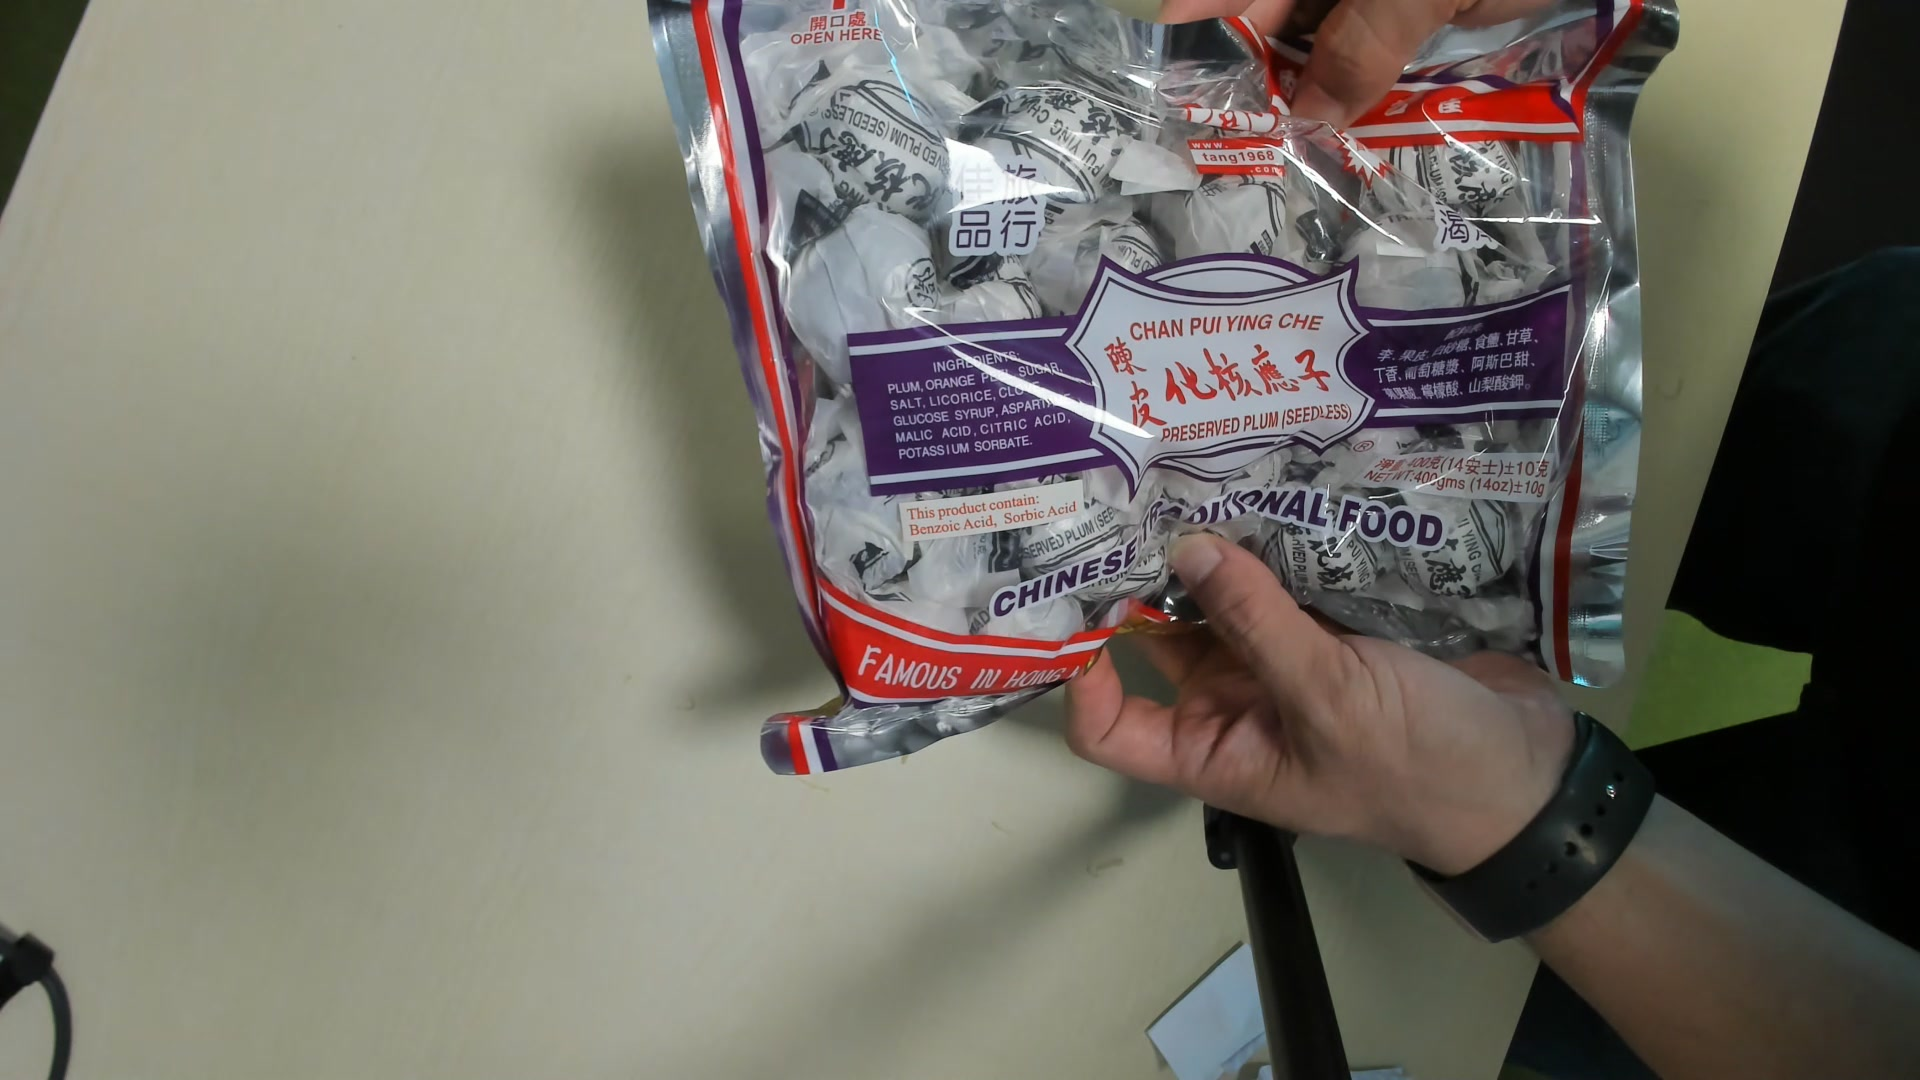SweetsChocolatesOthers_400-499g_NonHalal_Nonhealthy: (647, 3, 1677, 771)
